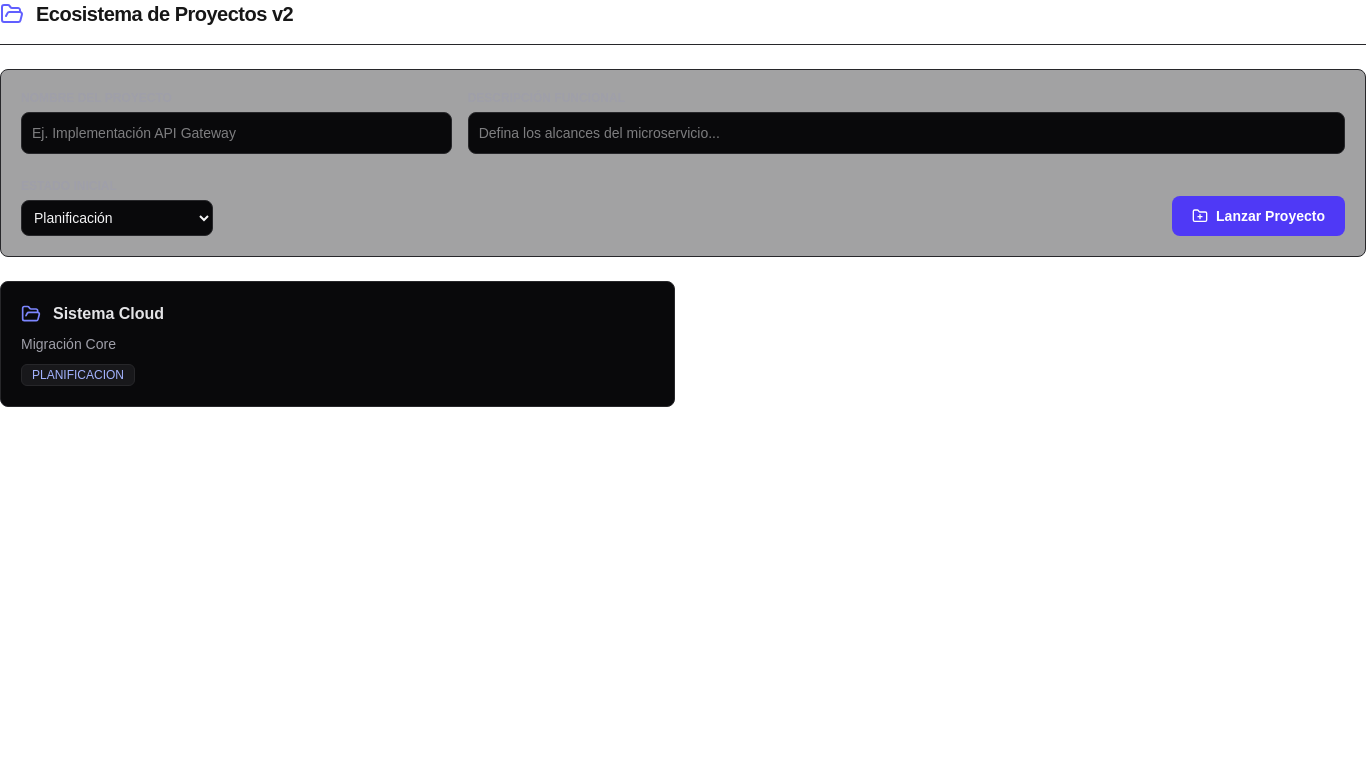
it: GestionProyectos - Pruebas del Ecosistema Operacional › Debería cerrar el modal de detalles al hacer click en el botón de cerrar de la esquina
The width and height of the screenshot is (1366, 768).
Check: the heading "Sistema Cloud" is shown, box 53,302 -> 164,326
Click the text "Sistema Cloud": (338, 344) 0,281 -> 675,407
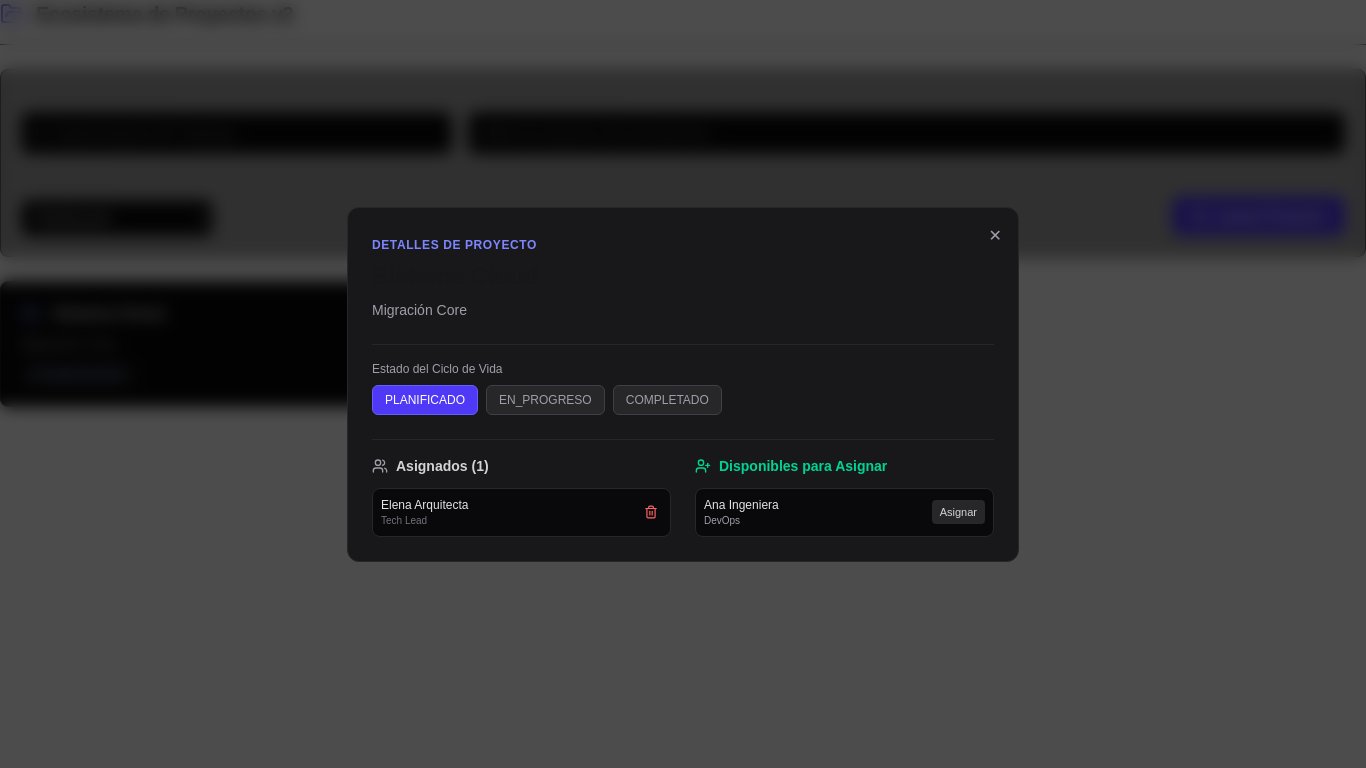
Click the button "✕": (995, 236) 989,224 -> 1002,248
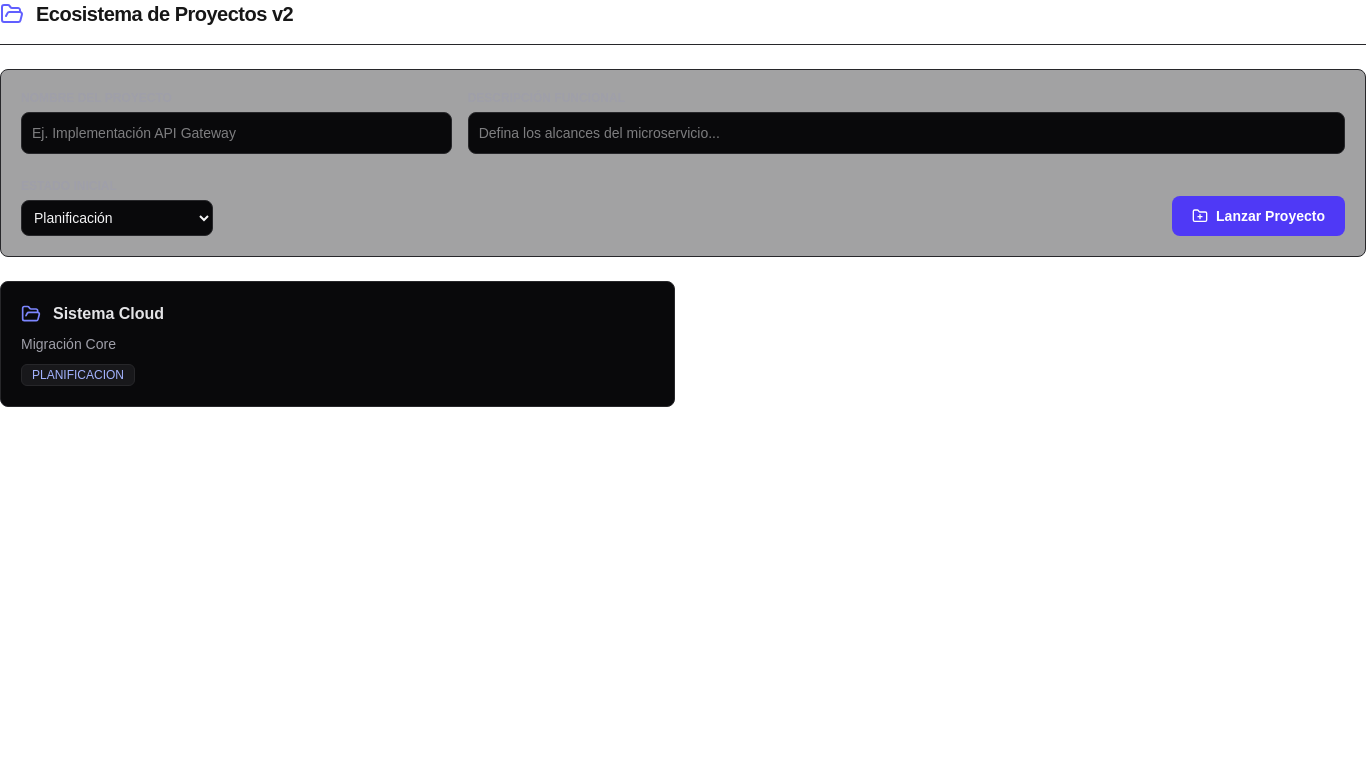
Check: the text "Detalles de Proyecto" is gone
